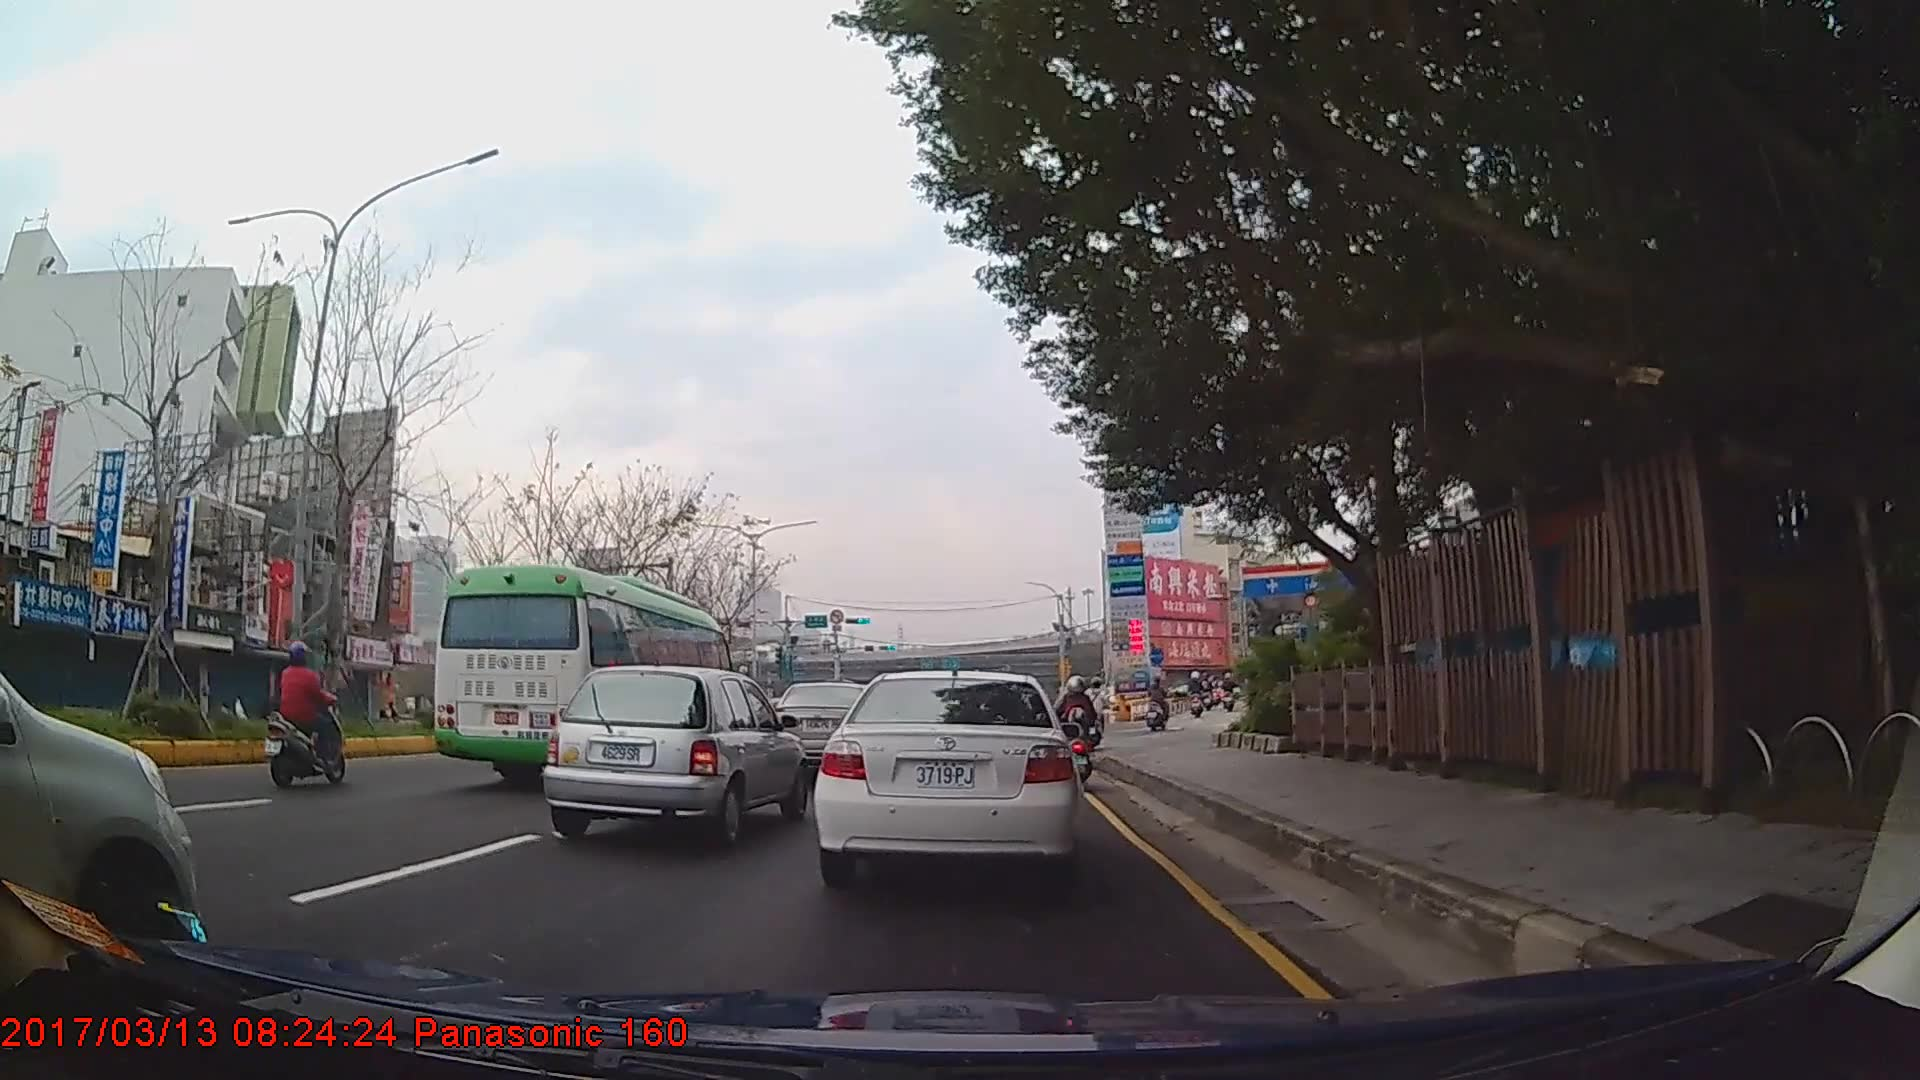rider: (259, 637, 346, 792), (1061, 673, 1103, 786), (1082, 675, 1111, 751), (1148, 674, 1169, 730), (1186, 670, 1206, 719)
vehicle: (426, 559, 739, 793), (812, 665, 1083, 883), (543, 661, 806, 852), (769, 681, 886, 776)
